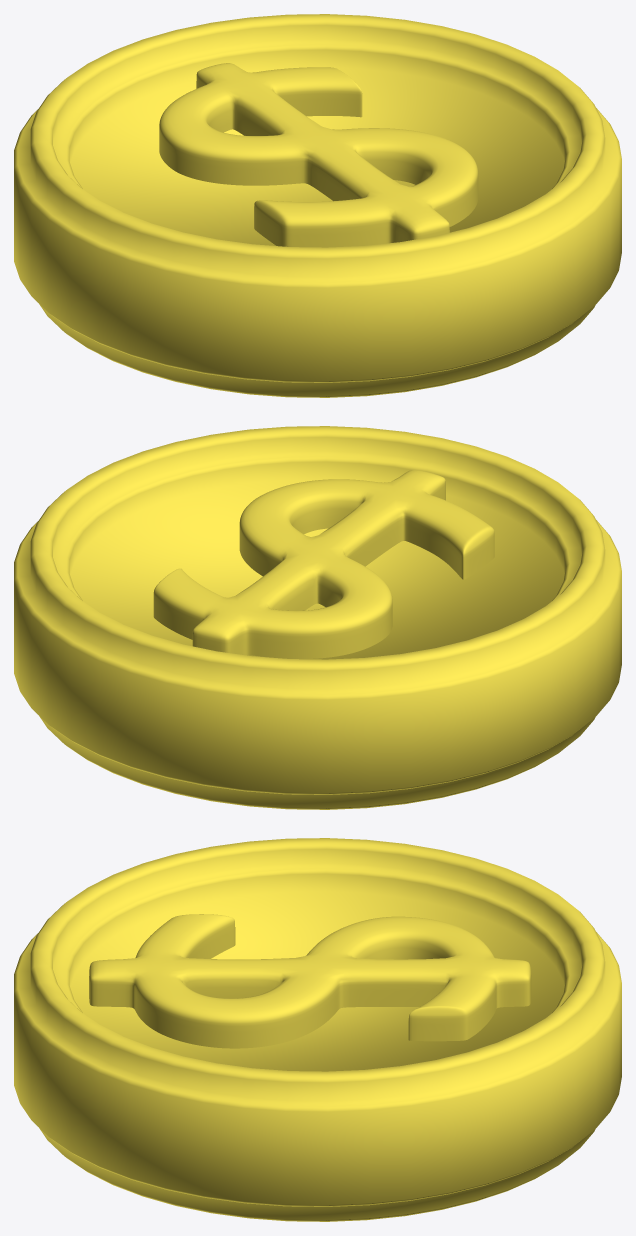
The model's file is coin.fbx.
3 views of the same model, one above another, from view 1: azimuth 30°, elevation 25°; view 2: azimuth 150°, elevation 25°; view 3: azimuth 270°, elevation 25° (orthographic).
Visible parts, largest first — view 1: coin; view 2: coin; view 3: coin.
Boxes of the visible parts, x1,y1,x2,y2 form: coin: (14, 14, 621, 397); coin: (14, 426, 621, 809); coin: (14, 838, 621, 1221).
Bounding box in the file's own units: 26.07 × 6.82 × 26.05.
